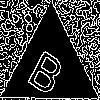B: (25, 41, 72, 98)
